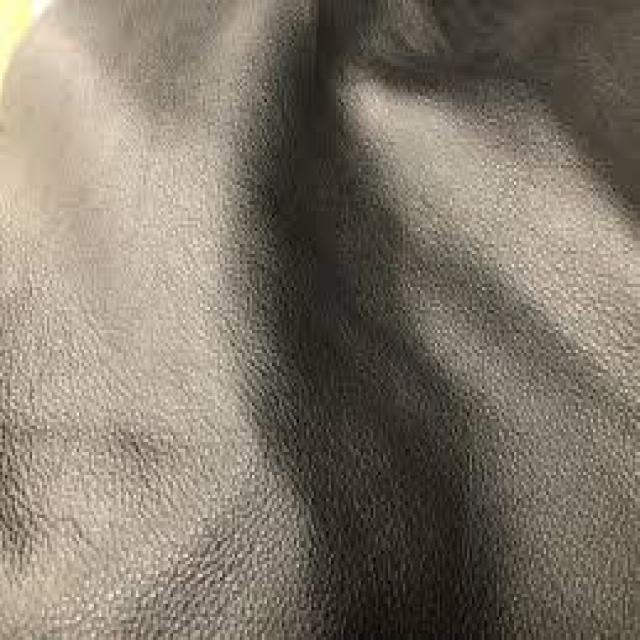Crease: (122, 118, 327, 480), (376, 73, 608, 253), (120, 462, 370, 625)
